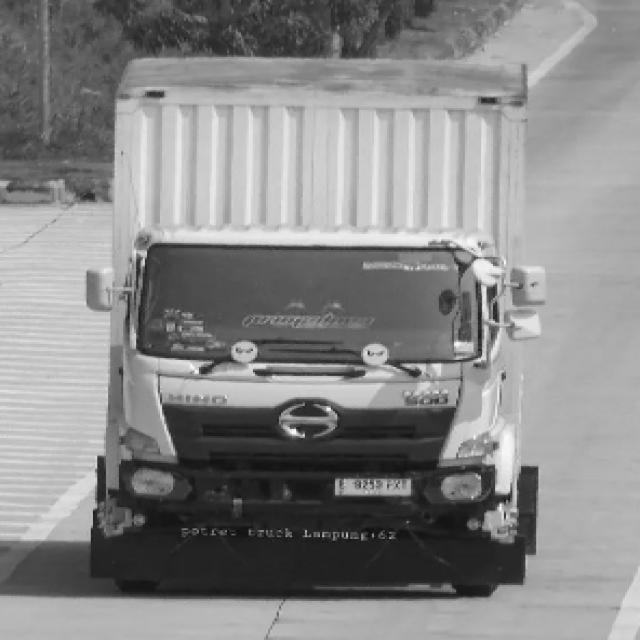Truck: (93, 38, 547, 616)
